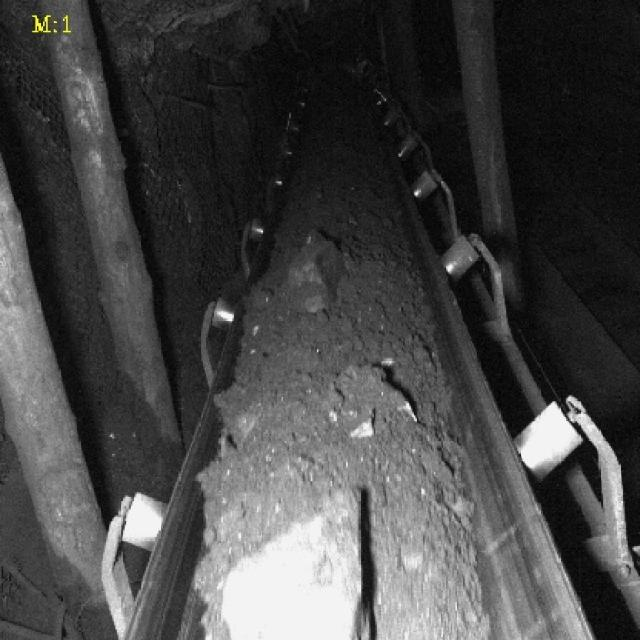large_sized_coal: (222, 486, 371, 640), (284, 232, 344, 317)
